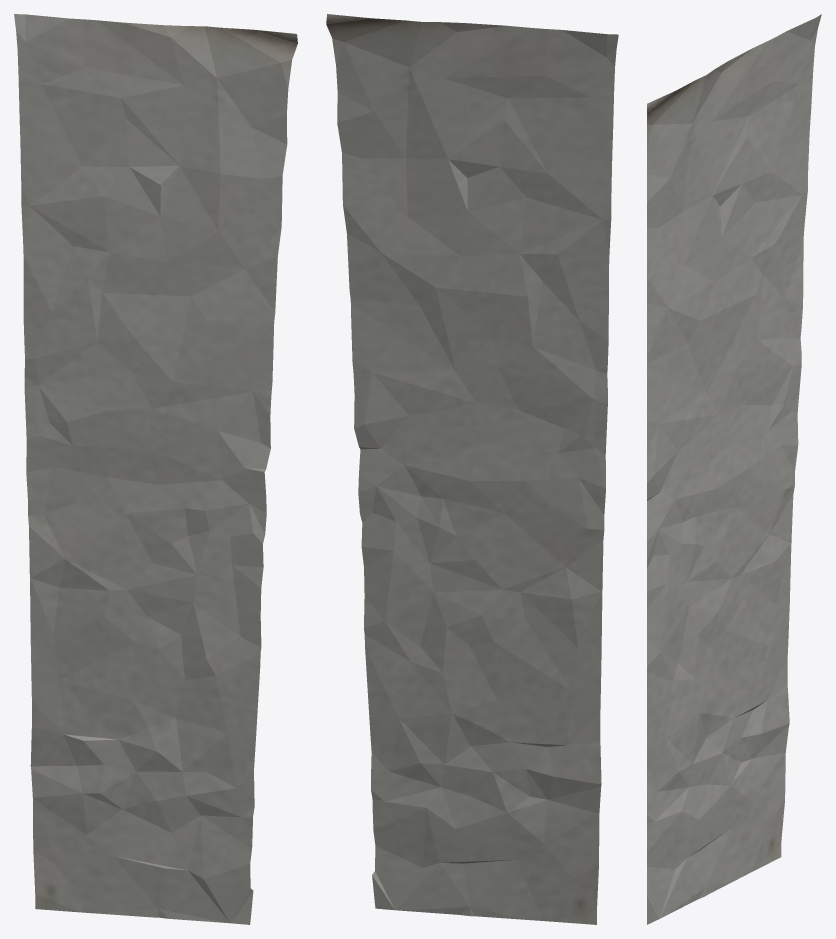
3 views of the same model, side by side, from view 1: azimuth 30°, elevation 25°; view 2: azimuth 210°, elevation 25°; view 3: azimuth 270°, elevation 25° (orthographic). The views are drawn at different scales.
Size of the model in its own units: 0.1921 by 0.8374 by 0.1574.
Materials: 1 (1 with a texture image).
